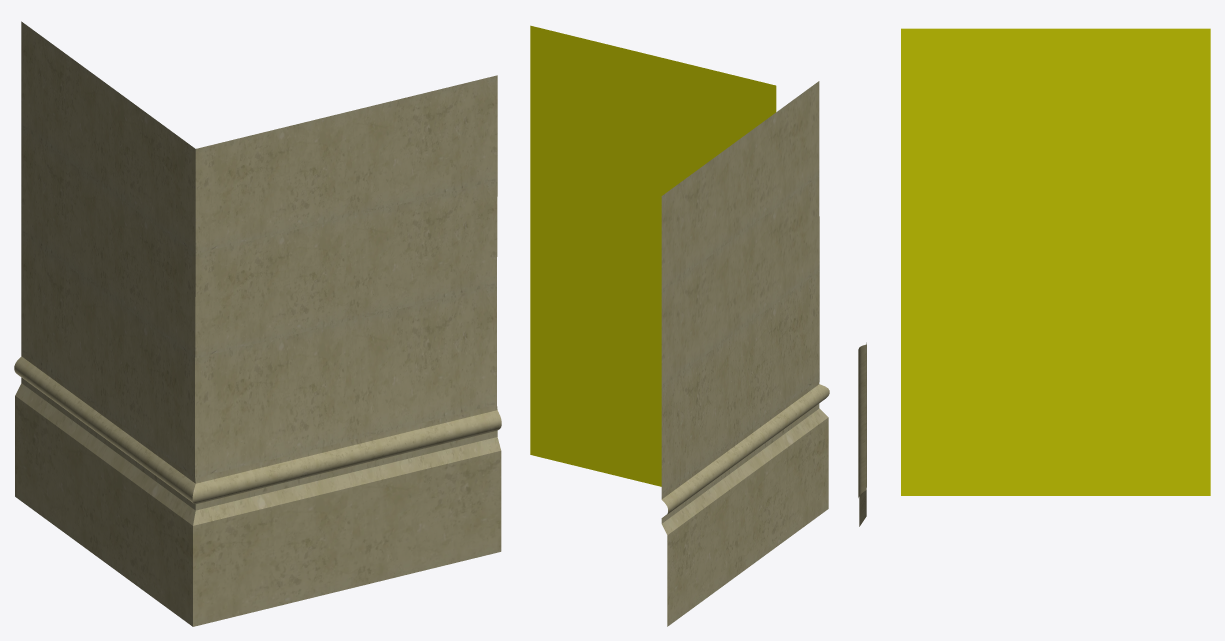
Rendered from trim-corner.glb.
3 renders of one model, left to right at view 1: azimuth 30°, elevation 25°; view 2: azimuth 150°, elevation 25°; view 3: azimuth 270°, elevation 25°, orthographic. The views are drawn at different scales.
Parts seen in each view (by area): view 1: Trim_Corner; view 2: Trim_Corner; view 3: Trim_Corner.
Boxes of the visible parts, bbox=[...] form: Trim_Corner: bbox=[14, 21, 501, 626]; Trim_Corner: bbox=[530, 25, 829, 626]; Trim_Corner: bbox=[858, 28, 1210, 526].
Size of the model in its own units: 2.05 by 3 by 2.05.
2 materials, 1 textured.
